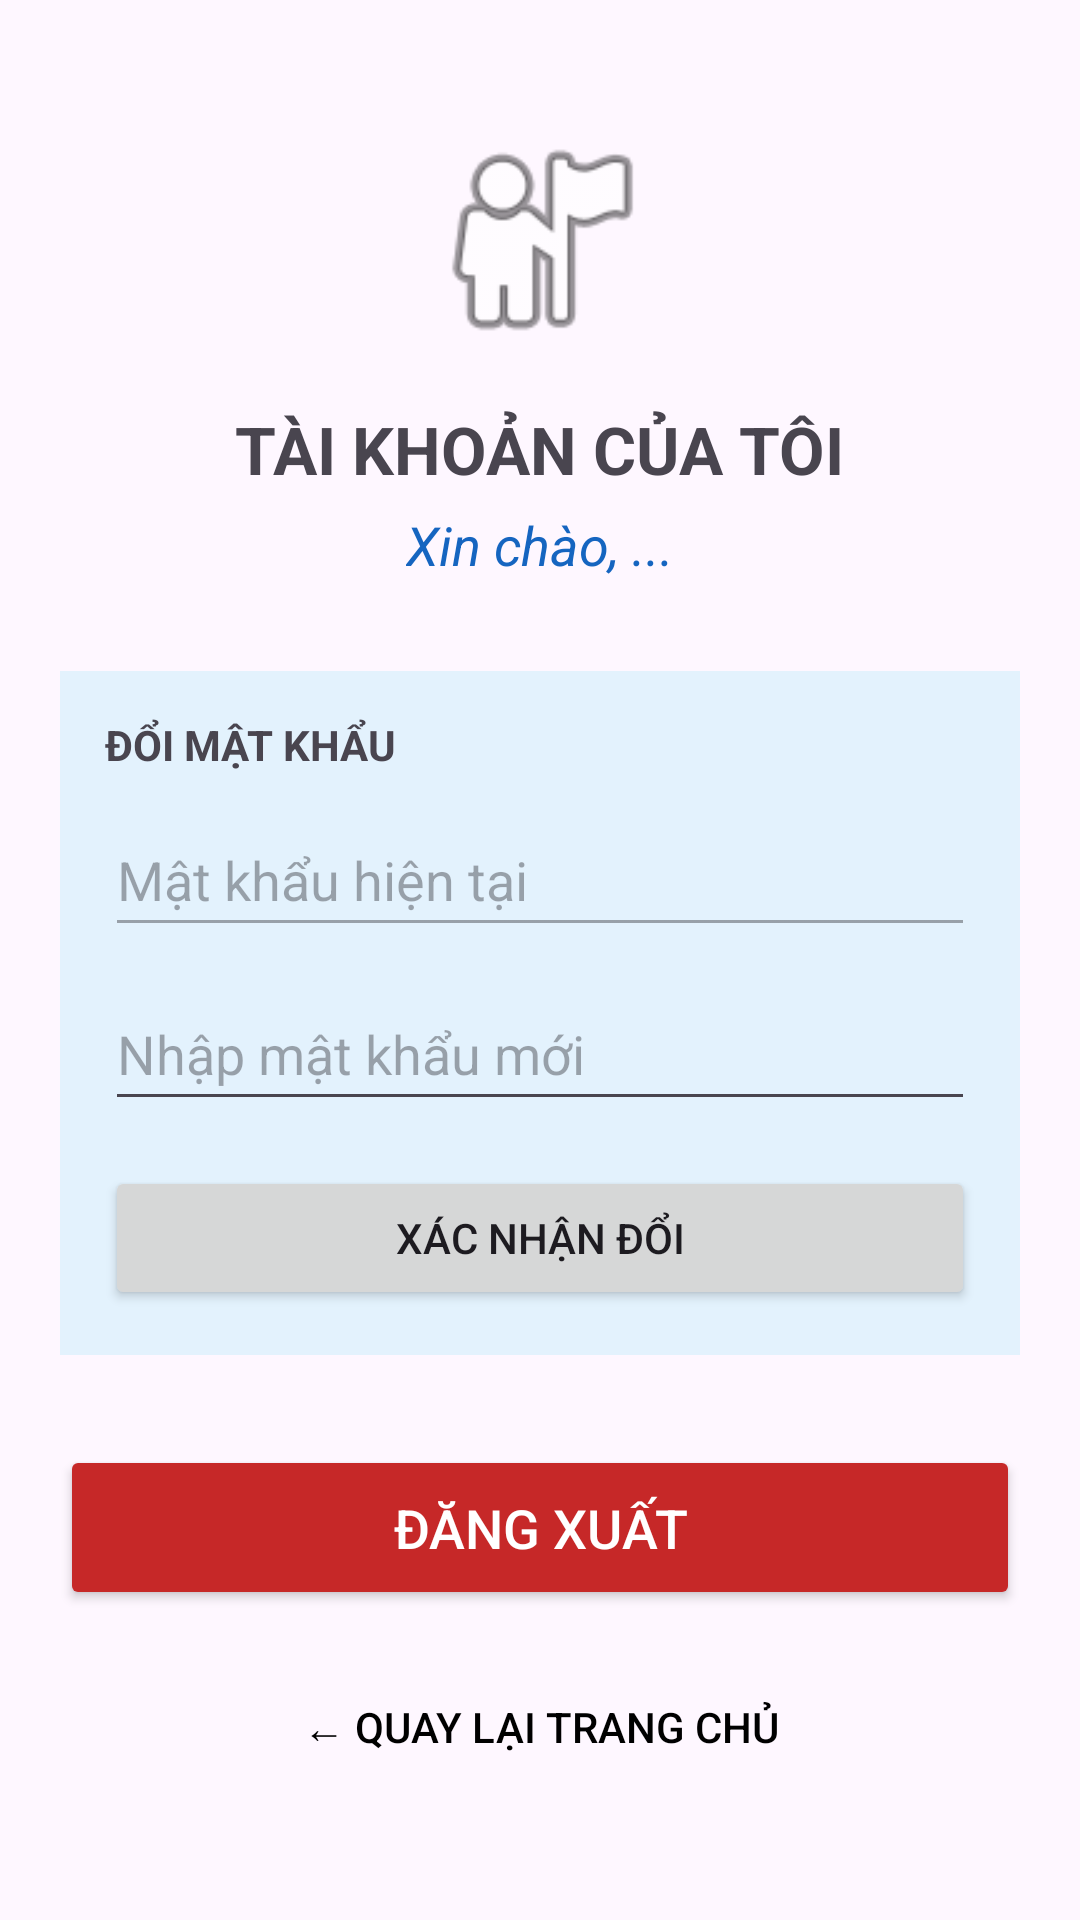

Where icons sit on this 1080w x 1920h app screen, as (left=x1, top=y1, right=x2, bottom=y2):
myplaces: (left=452, top=150, right=633, bottom=330)
